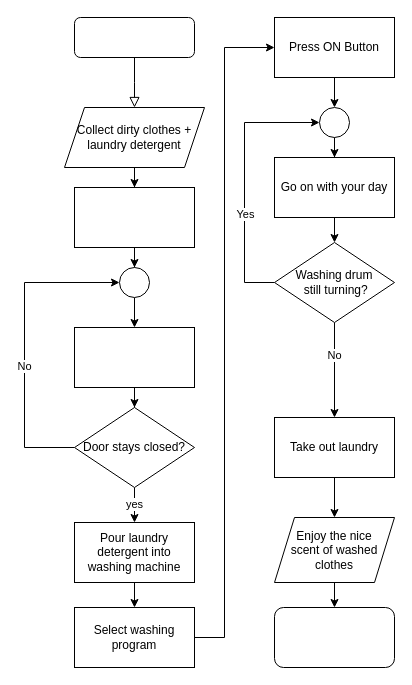
Some shapes in this 412 by 685 pixel diagram are drawn without their labels. The shapes that lost their labels are listed below. From the top down, each one's box as (x1, y1, x2, y2) in pixels, then its label:
(74, 16, 194, 58): Start
(74, 186, 194, 248): Put dirty clothes in washing machine
(74, 326, 194, 388): Close door
(274, 606, 394, 668): End
